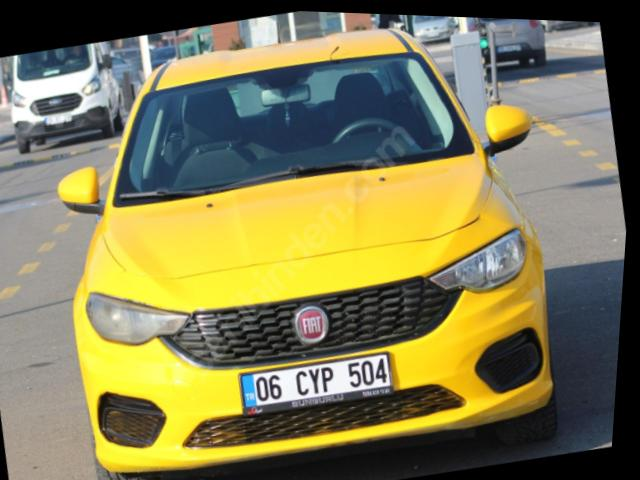plaka: (239, 352, 393, 414)
